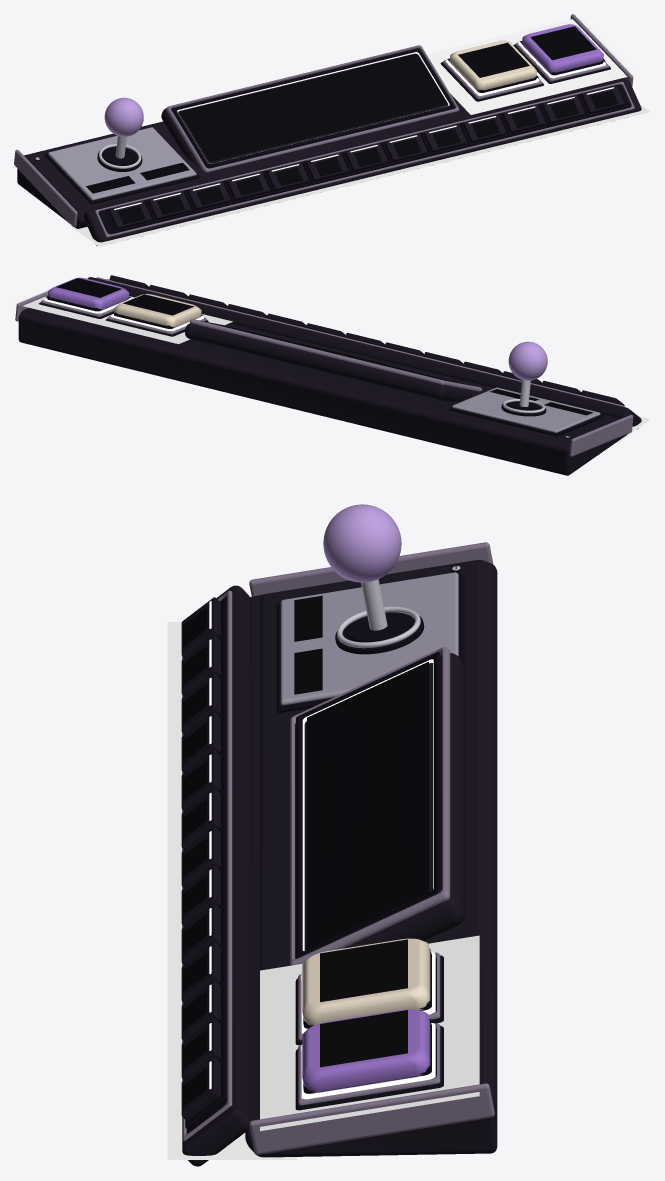
The model's file is navigation-marquee-v1.glb.
3 renders of one model, top to bottom at view 1: azimuth 30°, elevation 25°; view 2: azimuth 150°, elevation 25°; view 3: azimuth 270°, elevation 25°, orthographic. The views are drawn at different scales.
Parts seen in each view (by area): view 1: display_main, continuous_deck, joystick_brushed_plate, station_rail_shell, station_rail_lip, glow_underlight, marquee_inner_seal, marquee_outer_nickel, marquee_back, glow_ctl_directory, glow_ctl_open, ctl_open_cap (+42 smaller); view 2: housing_cast_shell, continuous_deck, station_rail_shell, marquee_back, joystick_brushed_plate, marquee_outer_nickel, joystick_balltop, ctl_open_cap, metal_end_cap, ctl_directory_cap, station_rail_lip, display_action (+5 smaller); view 3: display_main, continuous_deck, housing_cast_shell, station_rail_shell, joystick_brushed_plate, glow_underlight, marquee_back, metal_end_cap.001, glow_ctl_directory, glow_ctl_open, marquee_outer_nickel, ctl_directory_cap (+30 smaller).
Boxes of the visible parts, x1=… form: display_main: x1=179, y1=54, x2=447, y2=162; continuous_deck: x1=24, y1=78, x2=622, y2=213; joystick_brushed_plate: x1=48, y1=127, x2=196, y2=200; station_rail_shell: x1=83, y1=79, x2=641, y2=246; station_rail_lip: x1=95, y1=81, x2=634, y2=237; glow_underlight: x1=66, y1=104, x2=650, y2=246; marquee_inner_seal: x1=171, y1=48, x2=454, y2=168; marquee_outer_nickel: x1=166, y1=45, x2=459, y2=172; marquee_back: x1=161, y1=53, x2=455, y2=168; glow_ctl_directory: x1=489, y1=17, x2=635, y2=97; glow_ctl_open: x1=427, y1=36, x2=551, y2=114; ctl_open_cap: x1=449, y1=40, x2=536, y2=90; housing_cast_shell: x1=18, y1=308, x2=627, y2=475; continuous_deck: x1=26, y1=308, x2=619, y2=443; station_rail_shell: x1=87, y1=277, x2=641, y2=429; marquee_back: x1=185, y1=323, x2=478, y2=401; joystick_brushed_plate: x1=452, y1=387, x2=600, y2=432; marquee_outer_nickel: x1=190, y1=319, x2=482, y2=391; joystick_balltop: x1=508, y1=341, x2=547, y2=380; ctl_open_cap: x1=114, y1=294, x2=201, y2=328; metal_end_cap: x1=569, y1=414, x2=633, y2=456; ctl_directory_cap: x1=47, y1=277, x2=129, y2=310; station_rail_lip: x1=96, y1=277, x2=624, y2=406; display_action: x1=123, y1=294, x2=194, y2=315; display_main: x1=307, y1=661, x2=428, y2=949; continuous_deck: x1=260, y1=561, x2=482, y2=1084; housing_cast_shell: x1=245, y1=560, x2=497, y2=1157; station_rail_shell: x1=182, y1=585, x2=250, y2=1166; joystick_brushed_plate: x1=280, y1=572, x2=458, y2=705; glow_underlight: x1=167, y1=622, x2=296, y2=1159; marquee_back: x1=304, y1=653, x2=465, y2=950; metal_end_cap.001: x1=249, y1=1083, x2=494, y2=1154; glow_ctl_directory: x1=260, y1=1006, x2=479, y2=1131; glow_ctl_open: x1=260, y1=935, x2=479, y2=1065; marquee_outer_nickel: x1=290, y1=647, x2=450, y2=965; ctl_directory_cap: x1=302, y1=1009, x2=430, y2=1092.
Bounding box in the file's own units: 4.02 × 0.6828 × 1.02.
